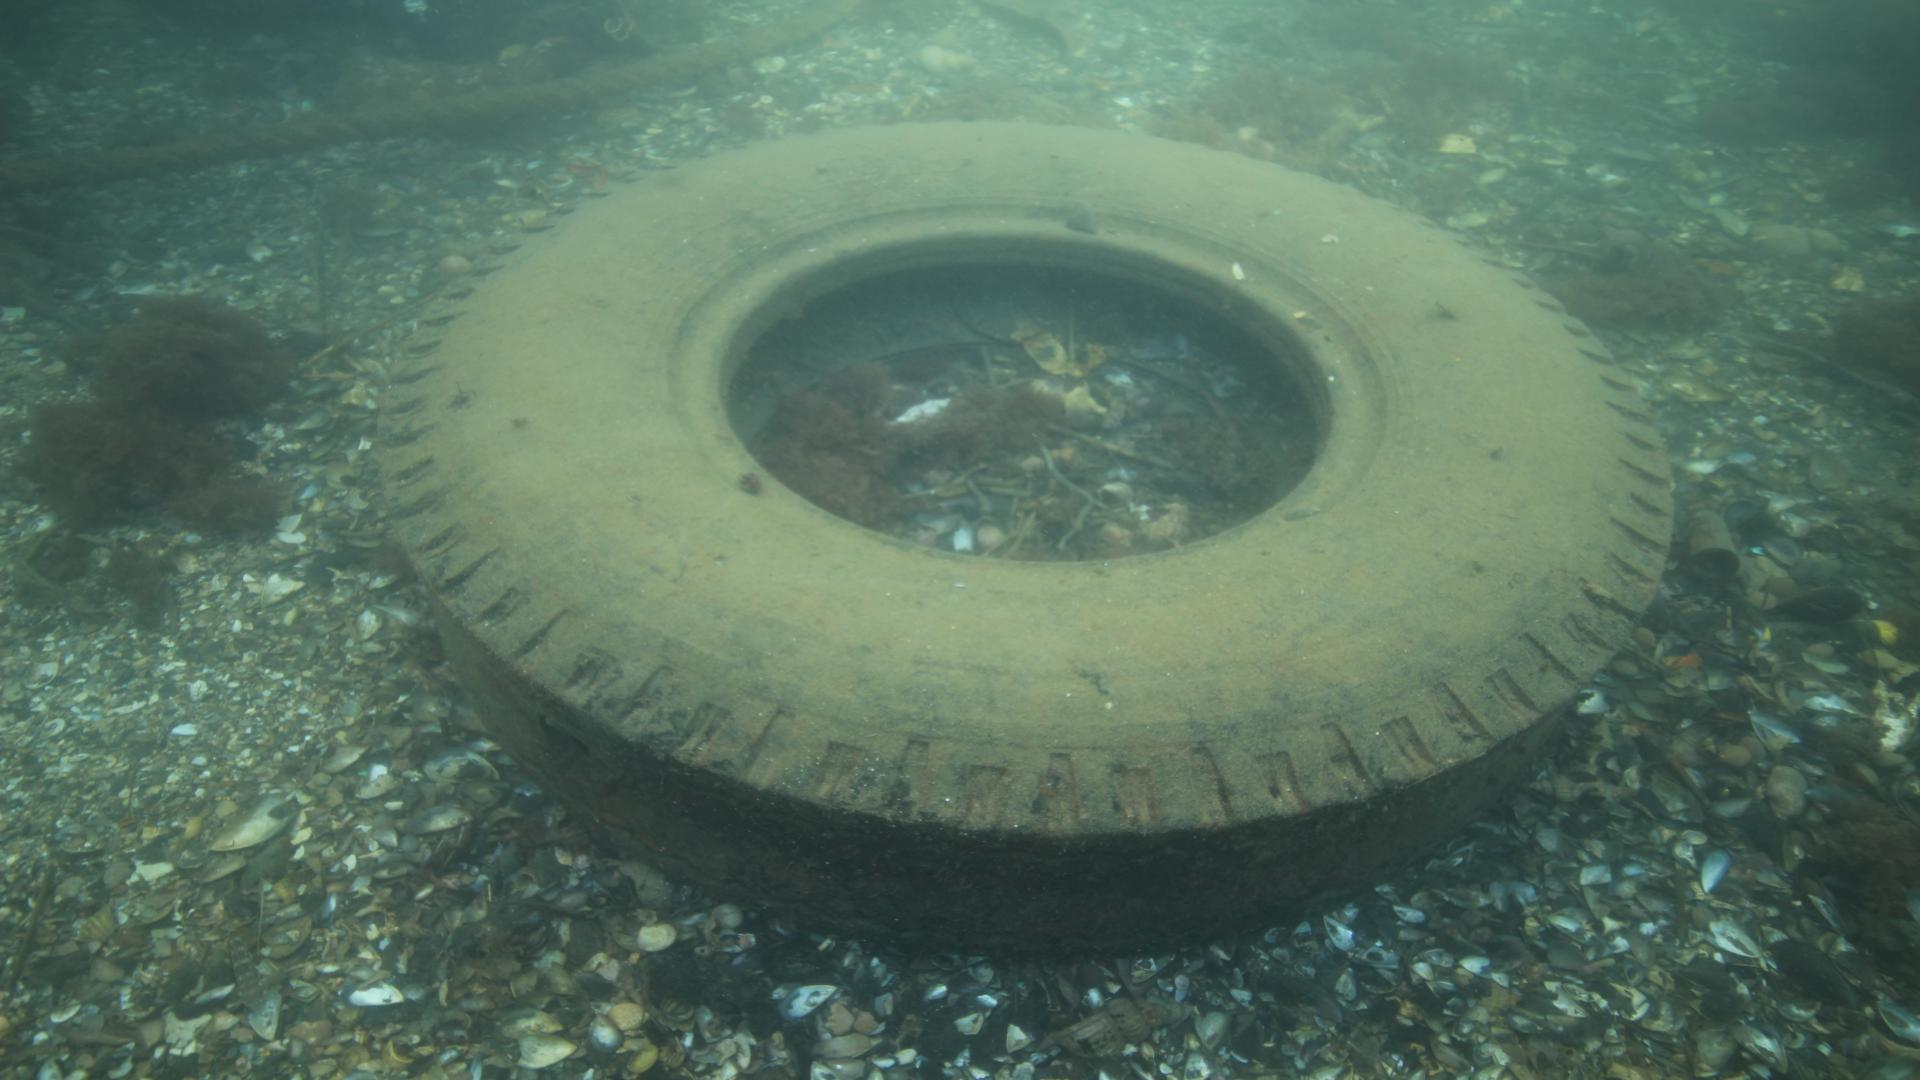rope: (0, 0, 880, 196)
tire: (373, 120, 1677, 953)
